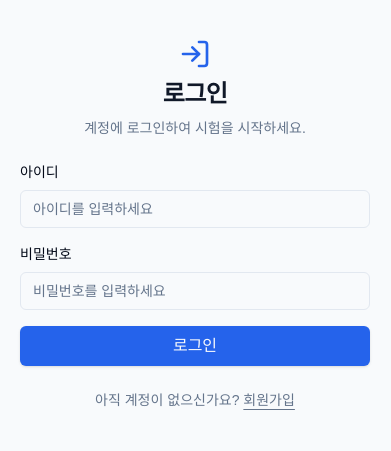
associates credential errors with the first field and focuses it
Type "user" into the field labelled "아이디" at (195, 209), box [20,190,370,228]
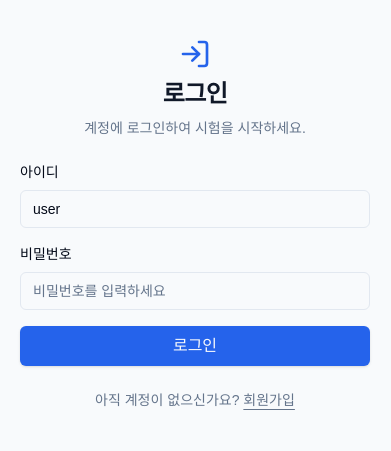
Type "password" into the password field labelled "비밀번호" at (195, 291), box [20,272,370,310]
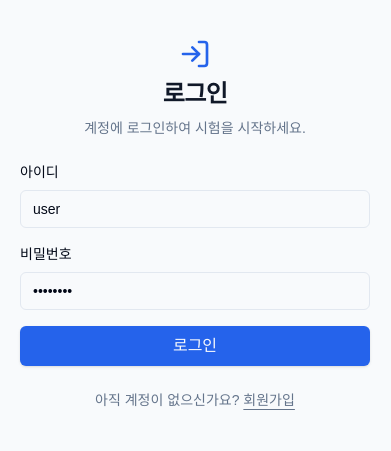
Click the button "로그인" at (195, 346), box [20,326,370,366]
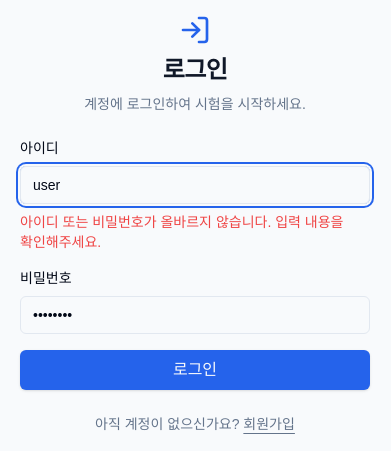
Expected: the button "로그인" is shown, [20,350,370,390]
Now the message shows "아이디 또는 비밀번호가 올바르지 않습니다", box [20,214,344,250]
